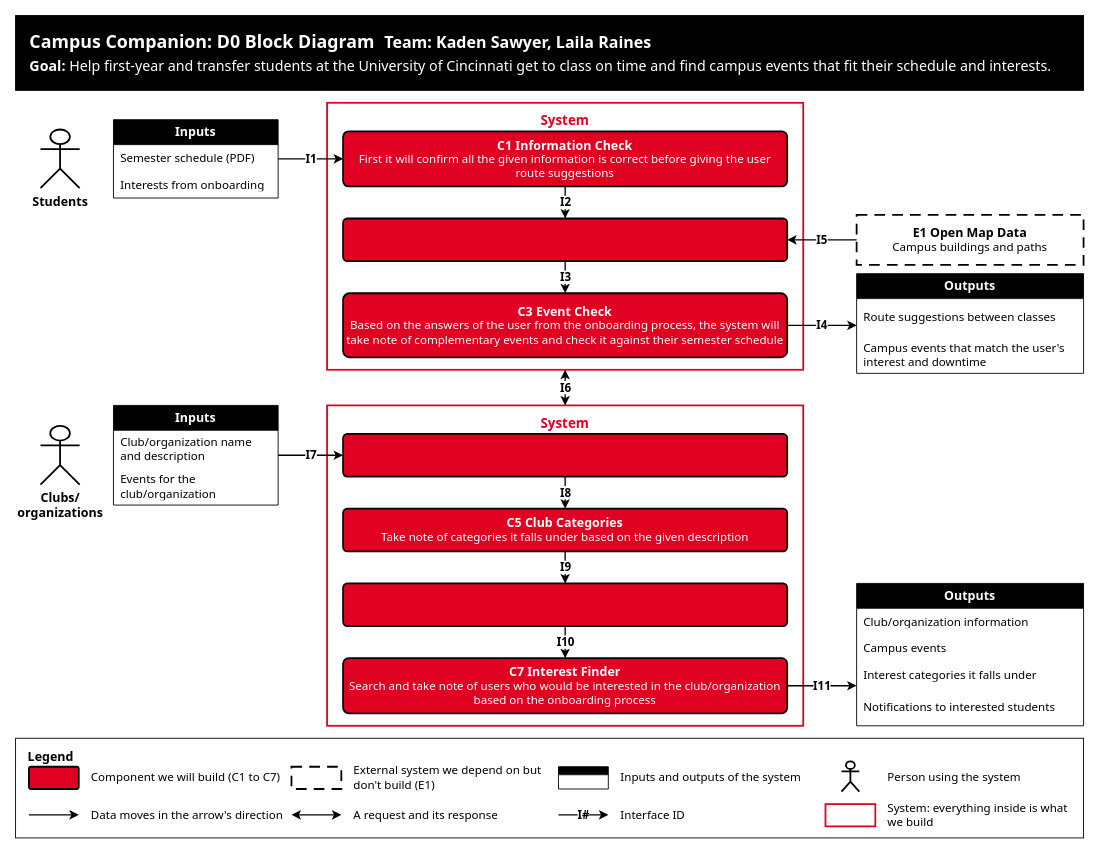
The diagram is 1100 pixels wide and 854 high, and some of its shapes have lost their labels. Each missing label, with the centre of its shape:
C2 Route Planner Then it will calculate and map out route suggestions: pixel 565 239
C4 Club Check Confirm the club/organization exists at the university: pixel 565 455
C6 Event Classifier Take note and classify inputted events: pixel 565 604
